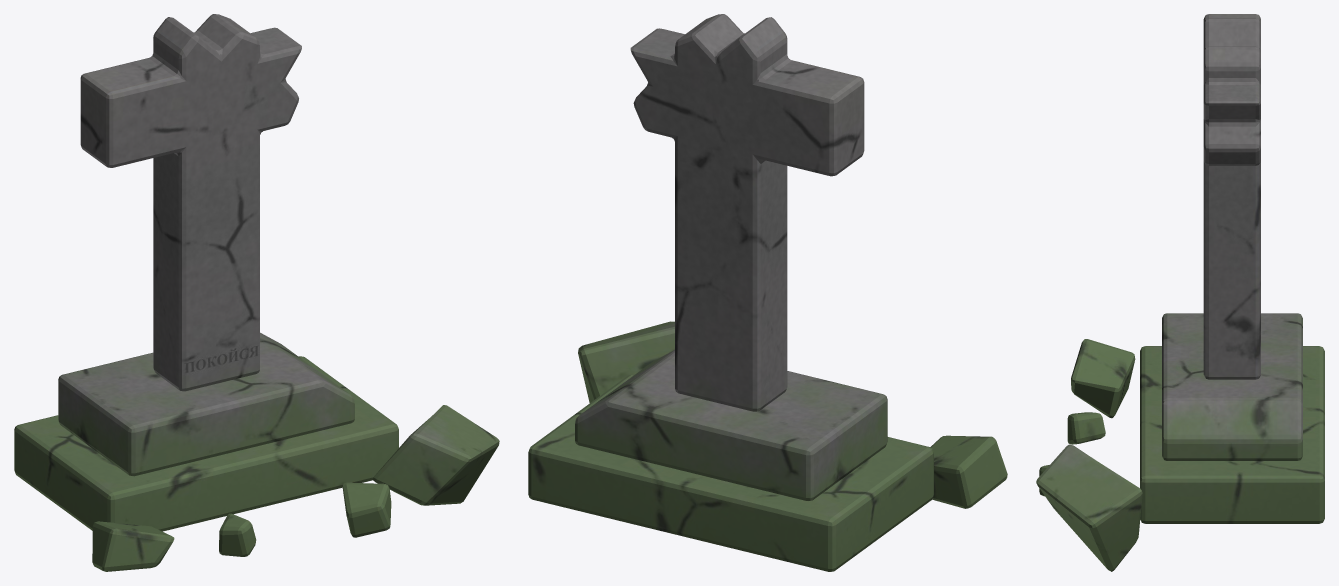
Rendered from gravestone_cross_broken_a.glb.
3 views of the same model, side by side, from view 1: azimuth 30°, elevation 25°; view 2: azimuth 150°, elevation 25°; view 3: azimuth 270°, elevation 25° (orthographic). The views are drawn at different scales.
Parts seen in each view (by area): view 1: gravestone_cross_broken_a; view 2: gravestone_cross_broken_a; view 3: gravestone_cross_broken_a.
Part boxes in pixels (left/top/right/bottom): gravestone_cross_broken_a: left=14, top=14, right=499, bottom=571; gravestone_cross_broken_a: left=528, top=14, right=1007, bottom=571; gravestone_cross_broken_a: left=1036, top=14, right=1324, bottom=571.
Size of the model in its own units: 0.9918 by 1.14 by 0.6559.
Materials: 1 (1 with a texture image).
